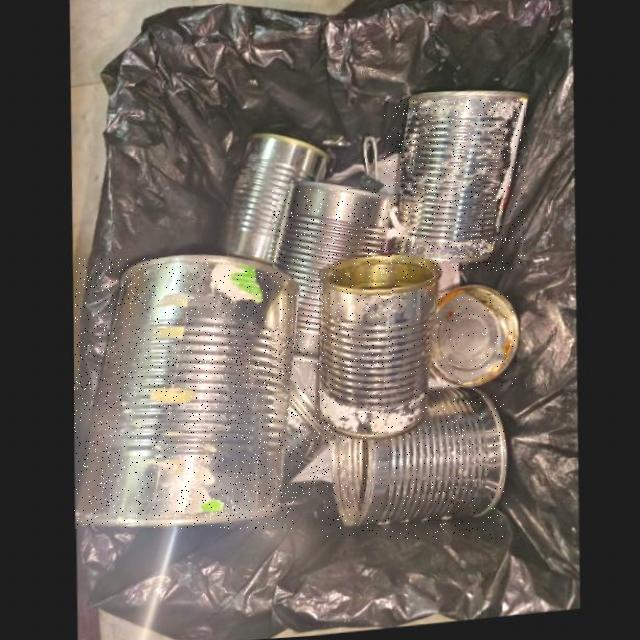metal: (75, 258, 297, 529), (322, 396, 507, 538), (385, 99, 525, 271), (315, 261, 439, 446), (273, 188, 392, 367), (211, 137, 325, 270), (432, 294, 516, 394), (280, 385, 330, 498)
